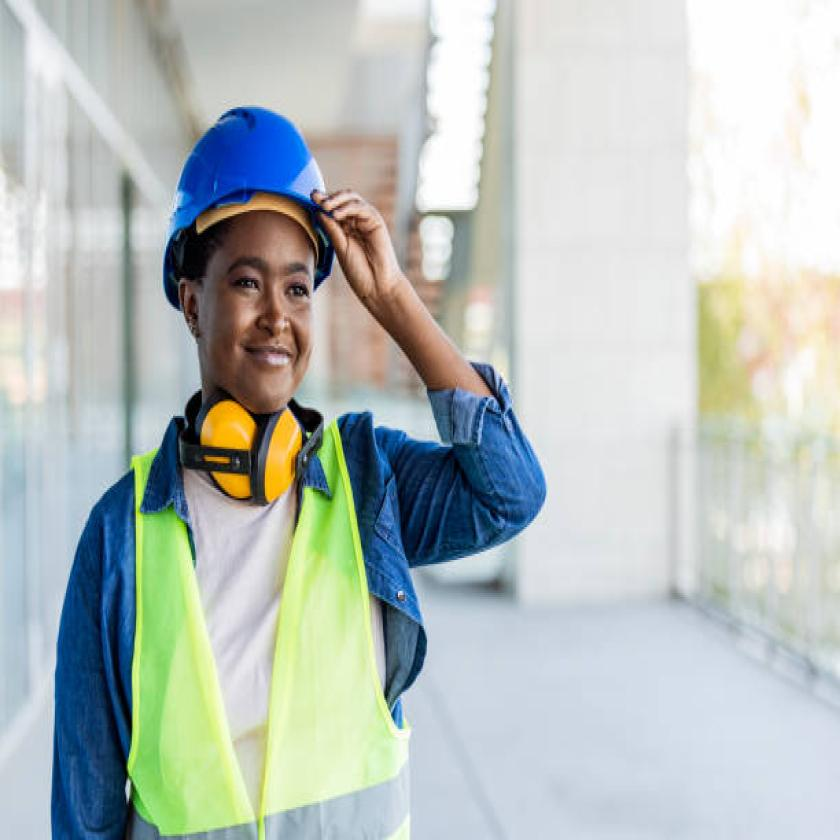Con_casco: (162, 99, 342, 418)
